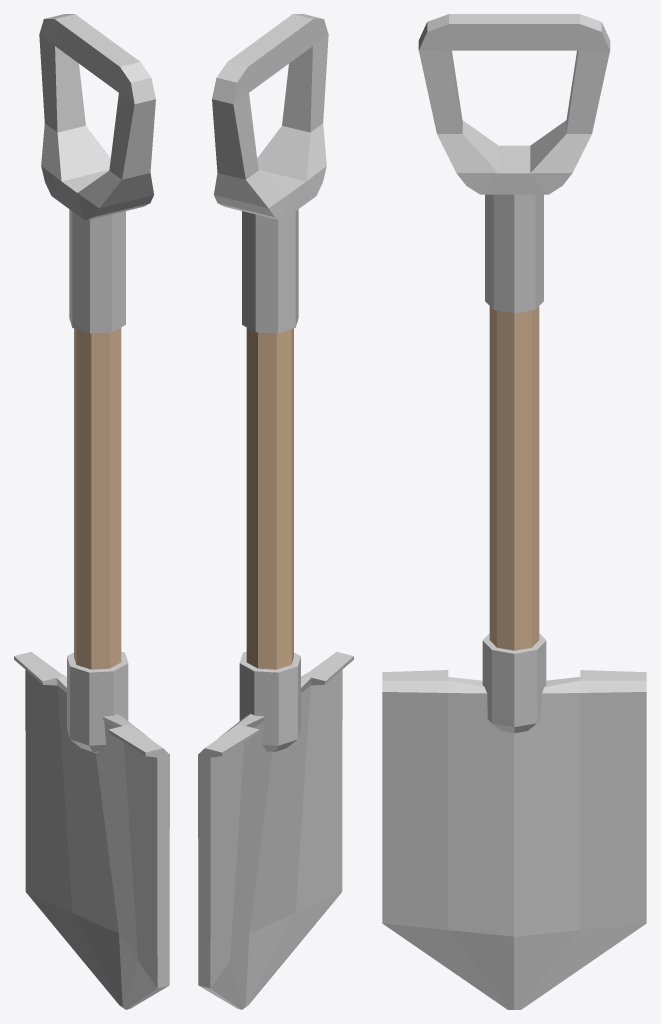
Rendered from Shovel.fbx.
3 views of the same model, side by side, from view 1: azimuth 30°, elevation 25°; view 2: azimuth 150°, elevation 25°; view 3: azimuth 270°, elevation 25° (orthographic).
Parts seen in each view (by area): view 1: Shovel; view 2: Shovel; view 3: Shovel.
Boxes of the visible parts, x1,y1,x2,y2 form: Shovel: (14, 14, 169, 1009); Shovel: (198, 14, 353, 1009); Shovel: (382, 14, 646, 1009).
Bounding box in the file's own units: 5.42 × 80.93 × 19.87.
